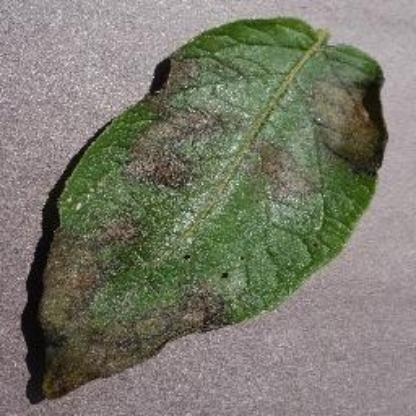Late-Blight: (23, 10, 388, 406)
